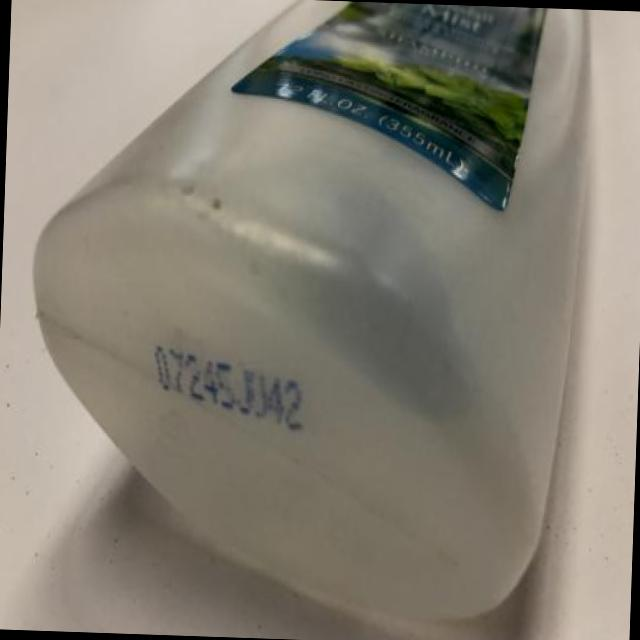Trash: (22, 0, 626, 633)
